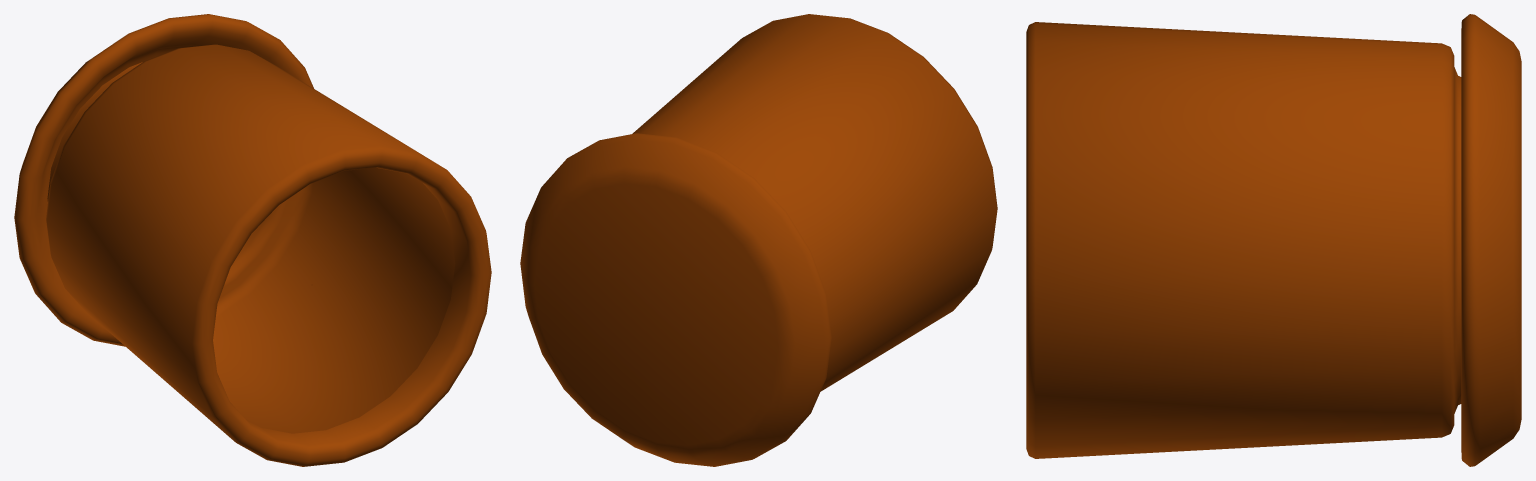
The model's file is MeshHouseplant_4_0_GeomSubset_0.obj.
3 views of the same model, side by side, from view 1: azimuth 30°, elevation 25°; view 2: azimuth 150°, elevation 25°; view 3: azimuth 270°, elevation 25° (orthographic). The views are drawn at different scales.
Parts seen in each view (by area): view 1: MeshHouseplant_4_0_GeomSubset_0; view 2: MeshHouseplant_4_0_GeomSubset_0; view 3: MeshHouseplant_4_0_GeomSubset_0.
Part boxes in pixels (<box>): MeshHouseplant_4_0_GeomSubset_0: <box>14,14,491,466</box>; MeshHouseplant_4_0_GeomSubset_0: <box>520,14,997,466</box>; MeshHouseplant_4_0_GeomSubset_0: <box>1026,14,1521,466</box>.
Size of the model in its own units: 0.1879 by 0.1879 by 0.2048.
